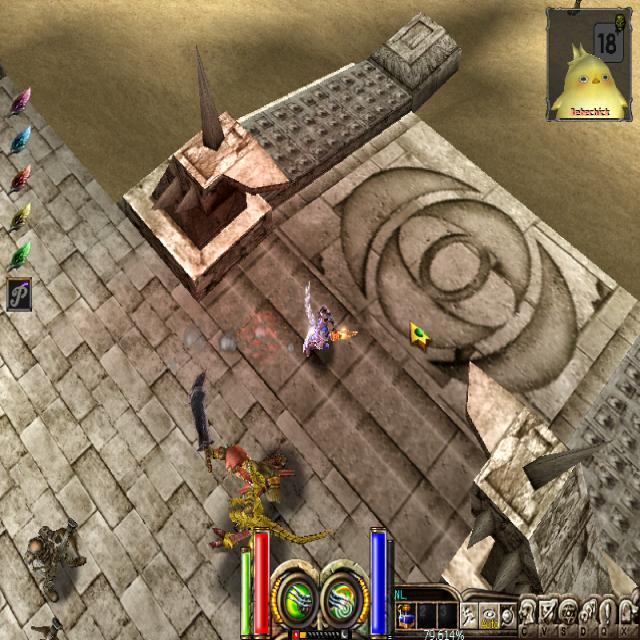monster: (220, 497, 312, 553), (202, 437, 289, 496), (32, 524, 81, 594)
